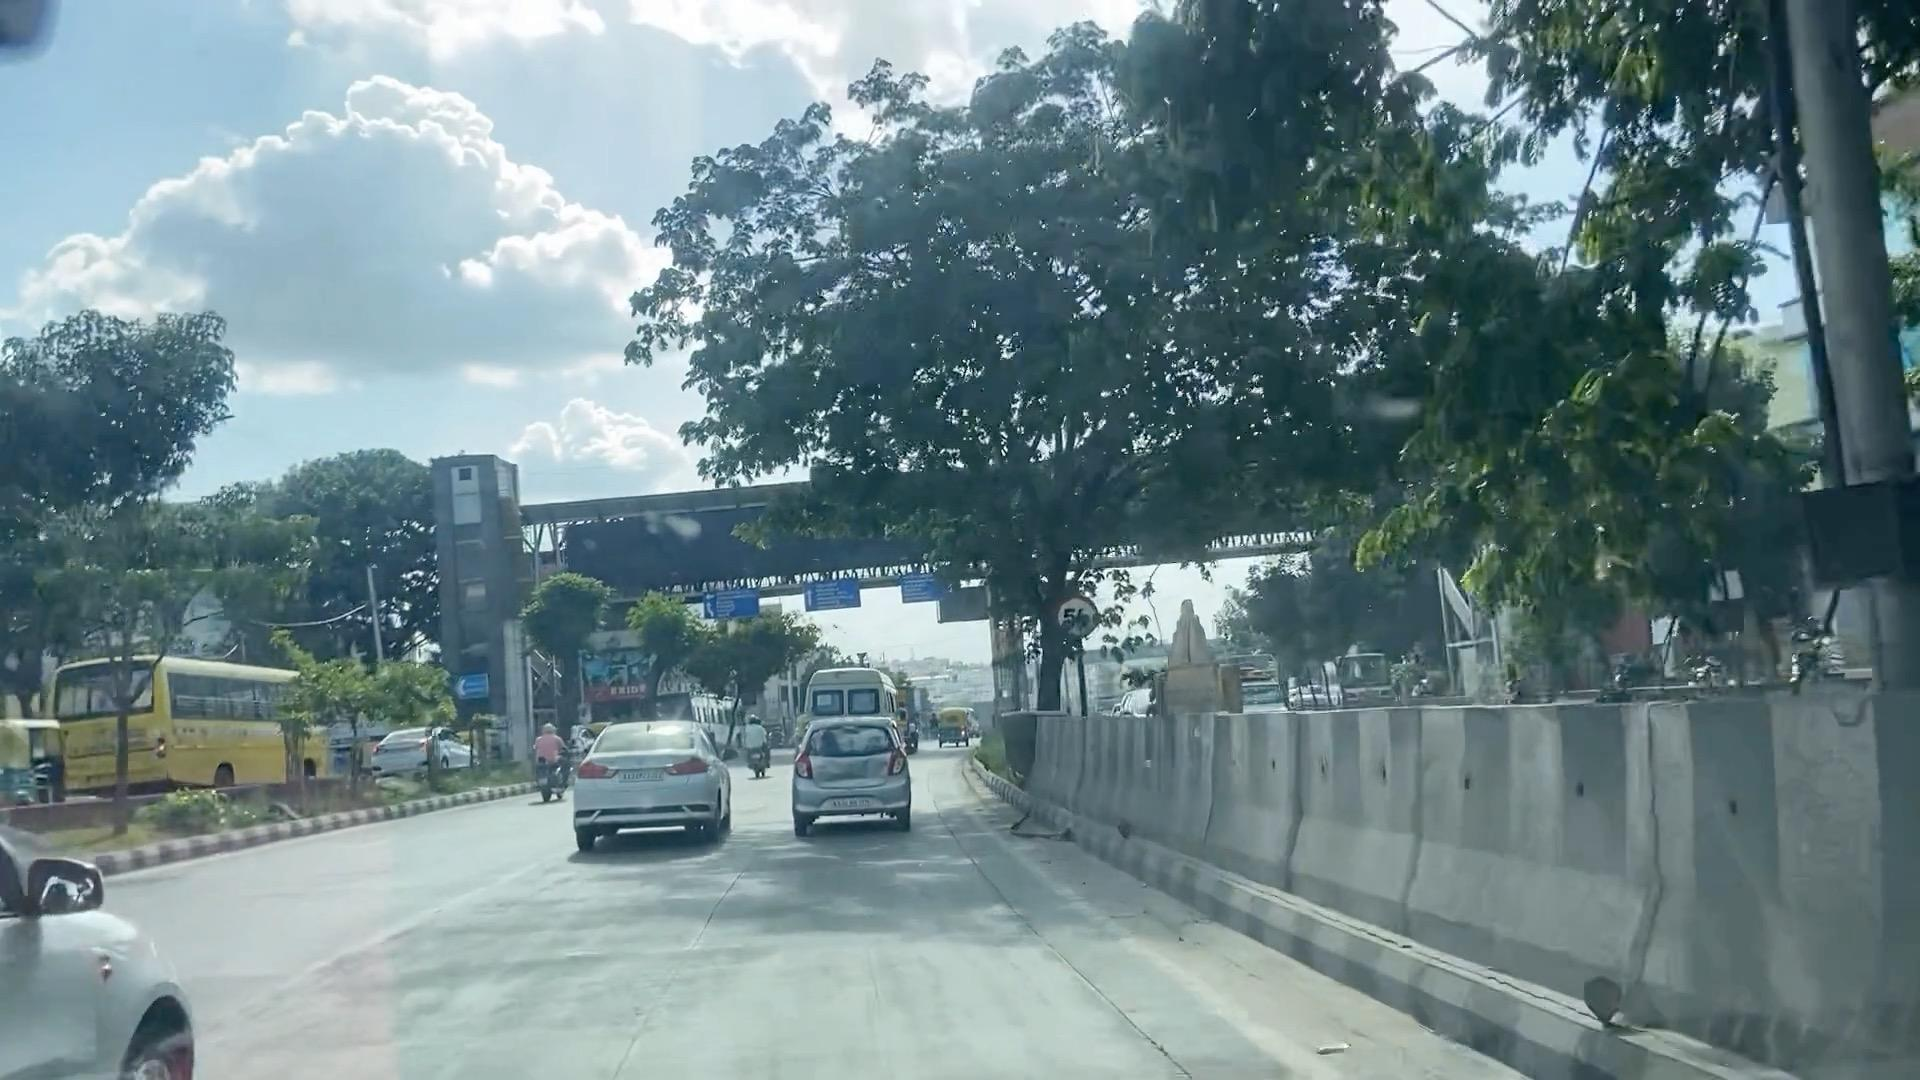LMV: (564, 717, 712, 832), (804, 715, 907, 832)
